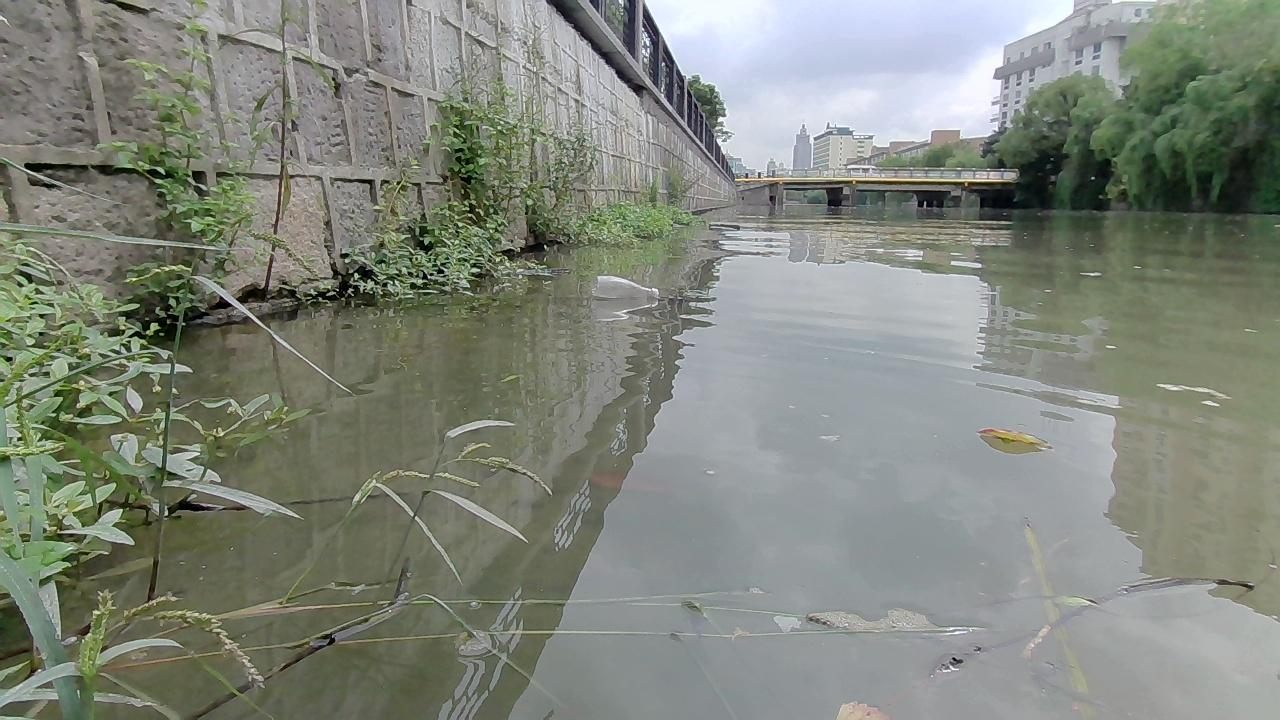bottle: (589, 272, 656, 306)
